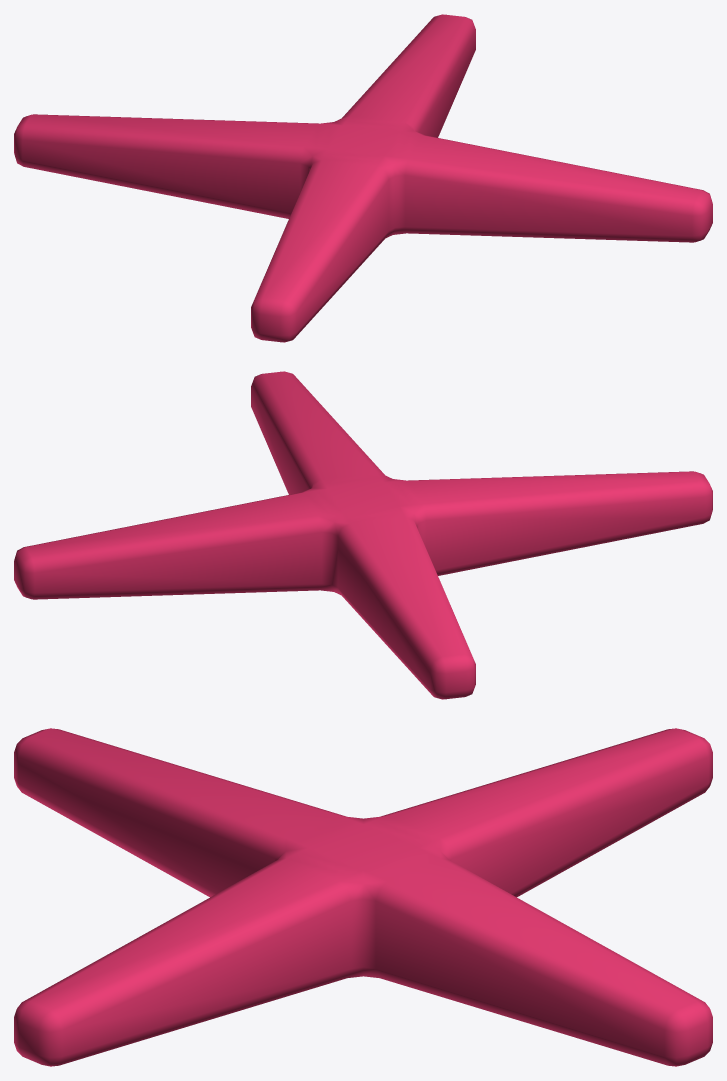
Rendered from IneligibleMarker(Test).glb.
The picture shows the model from 3 angles, top to bottom: view 1: azimuth 30°, elevation 25°; view 2: azimuth 150°, elevation 25°; view 3: azimuth 270°, elevation 25°; orthographic projection. The views are drawn at different scales.
Parts seen in each view (by area): view 1: Cube; view 2: Cube; view 3: Cube.
Part boxes in pixels (x1,y1,x2,y2): Cube: (14,14,712,342); Cube: (14,371,712,699); Cube: (14,728,712,1066).
Bounding box in the file's own units: 0.4589 × 0.0722 × 0.4589.
